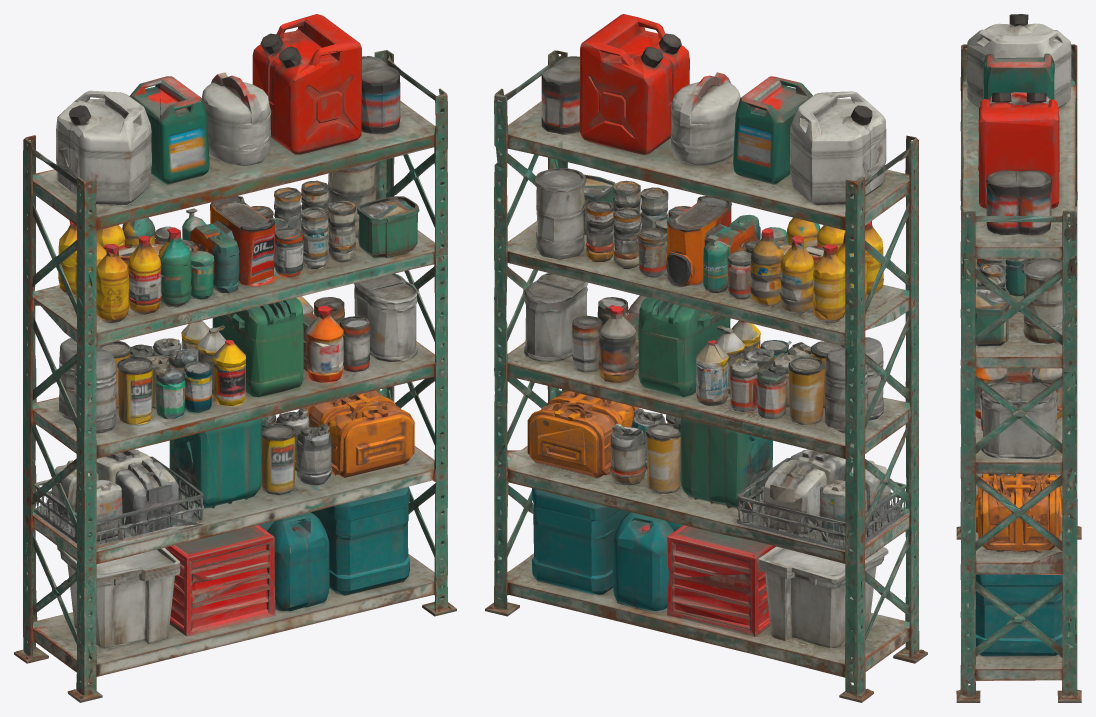
File: garage_shelf.glb
3 views of the same model, side by side, from view 1: azimuth 30°, elevation 25°; view 2: azimuth 150°, elevation 25°; view 3: azimuth 270°, elevation 25° (orthographic). The views are drawn at different scales.
Visible parts, largest first — view 1: output_unwrapped; view 2: output_unwrapped; view 3: output_unwrapped.
Boxes of the visible parts, bbox=[...] form: output_unwrapped: bbox=[14, 14, 456, 702]; output_unwrapped: bbox=[485, 14, 927, 702]; output_unwrapped: bbox=[956, 14, 1081, 702].
Size of the model in its own units: 1.29 by 1.9 by 0.3929.
1 material, 1 textured.
